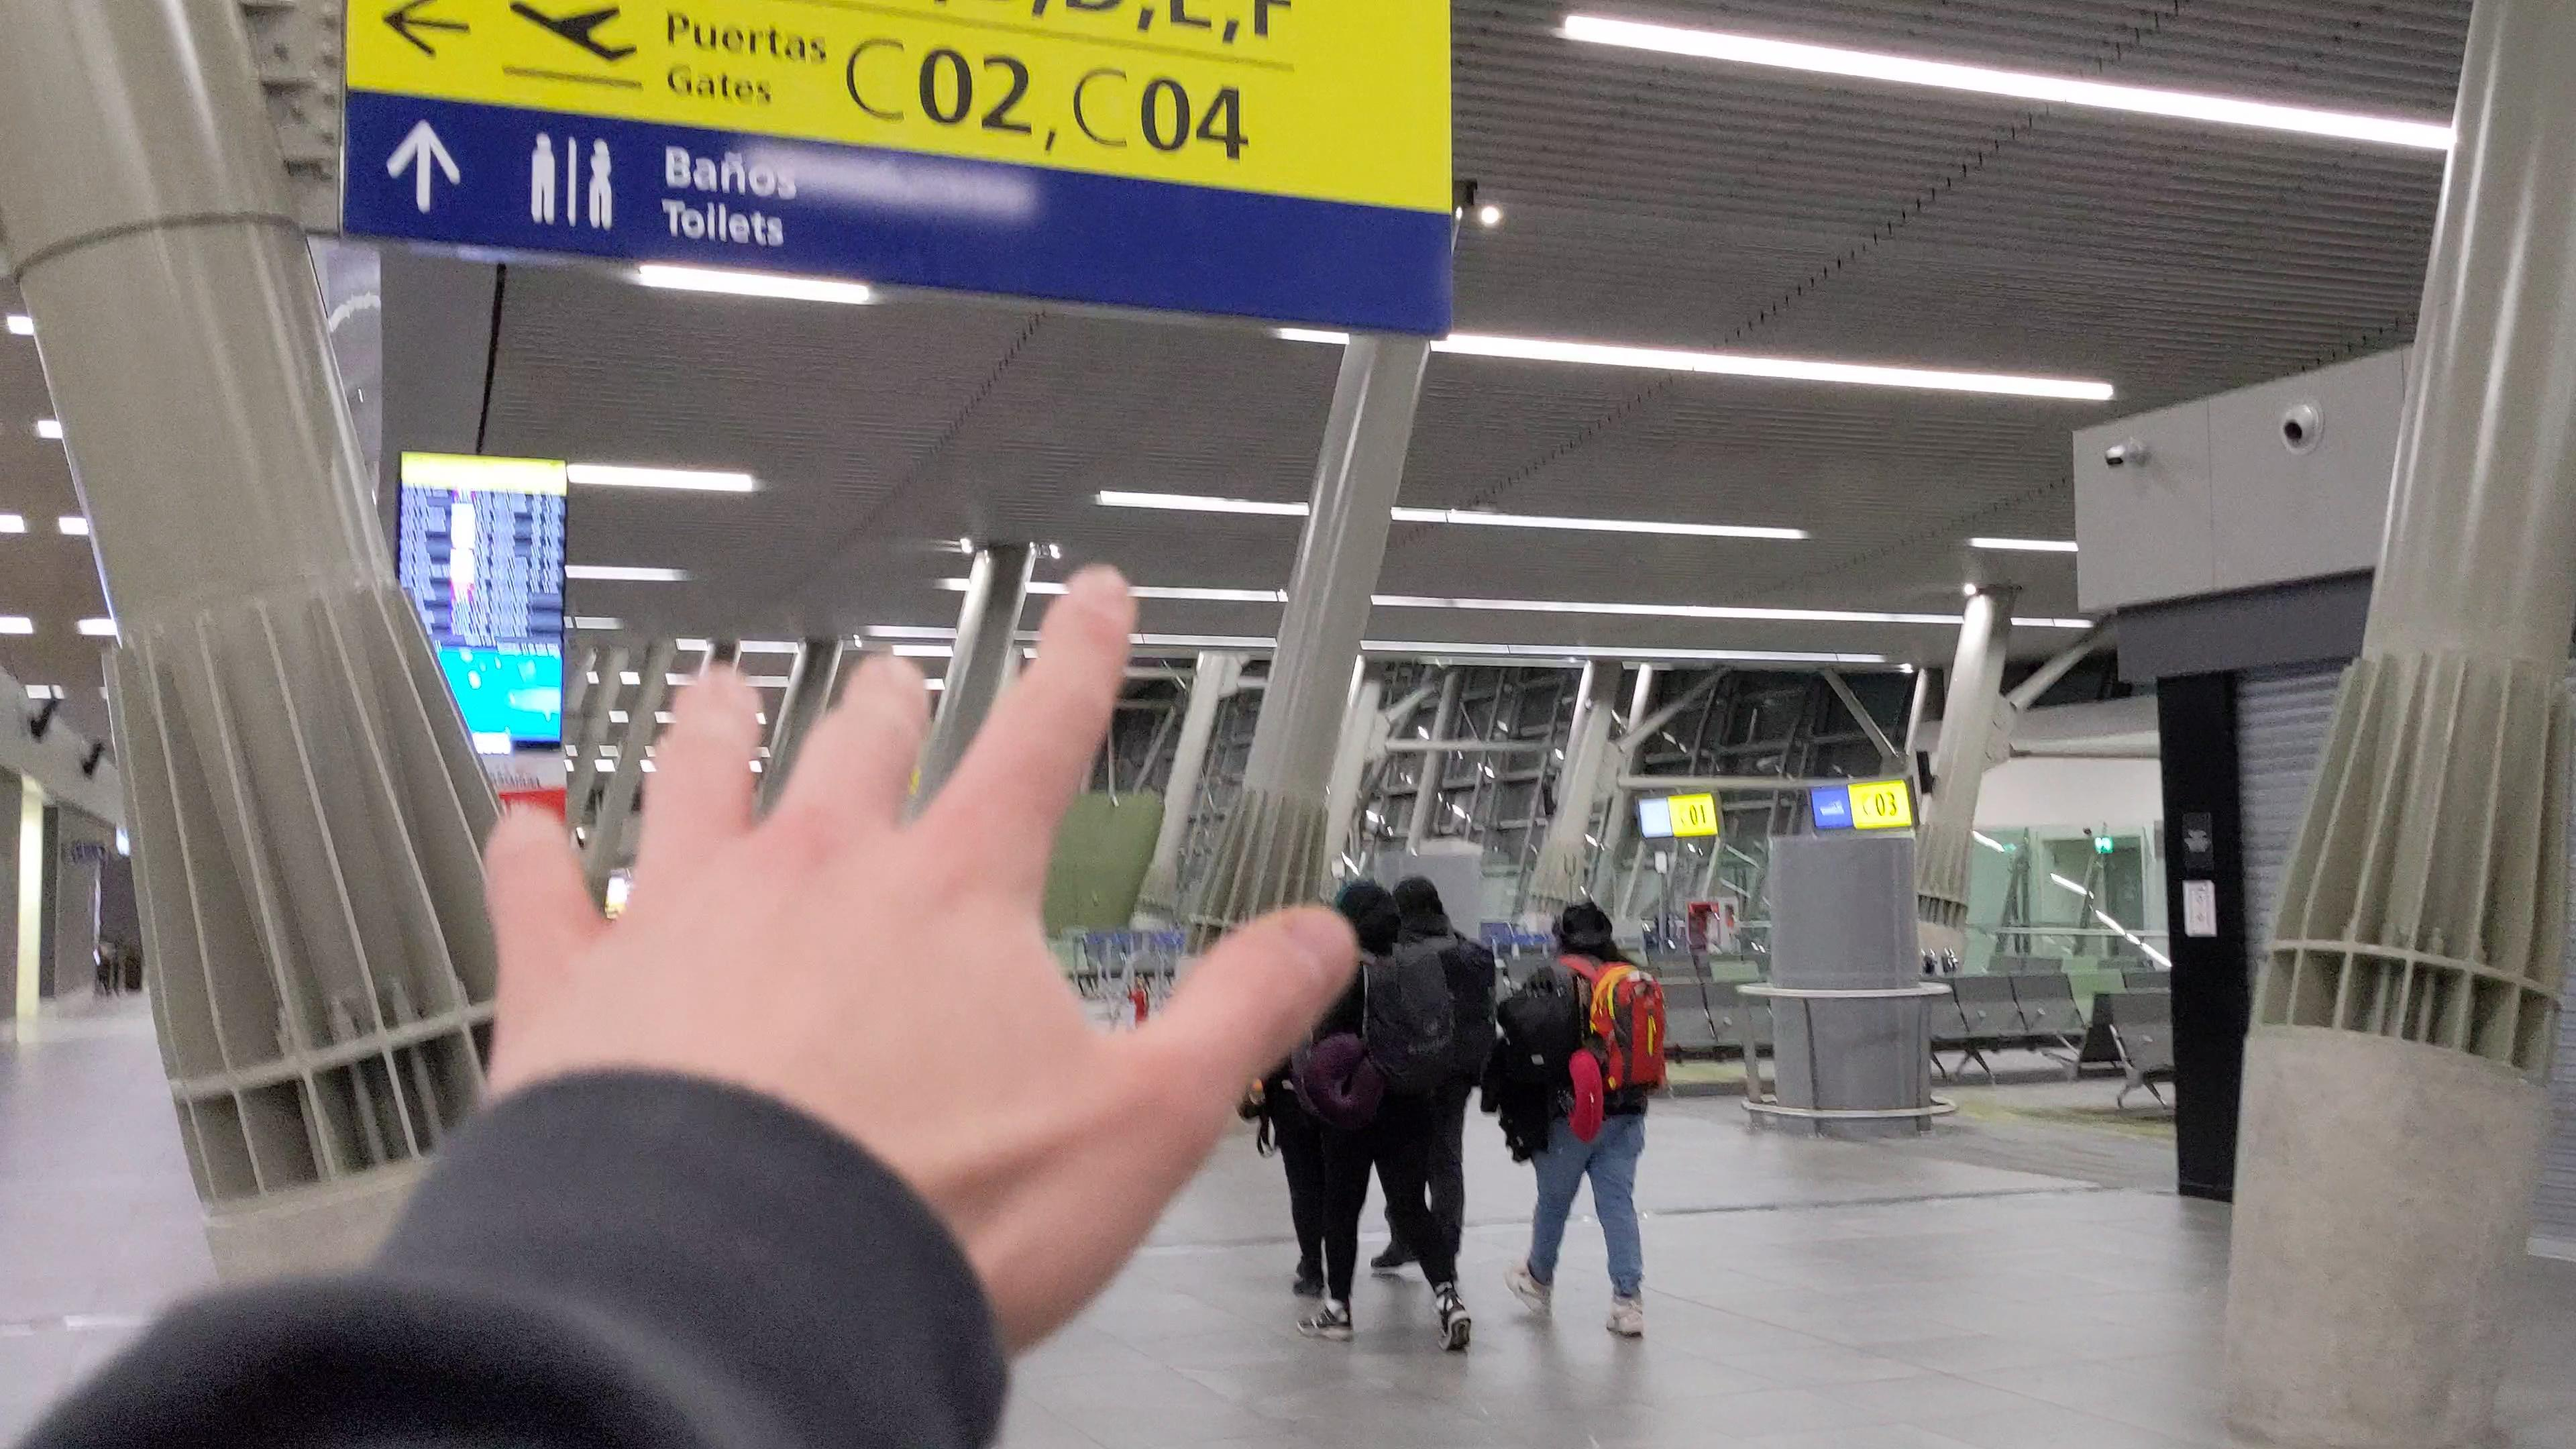airplane symbol: (504, 0, 639, 71)
bathrooms: (525, 127, 617, 232)
thin left arrow: (379, 0, 474, 60)
thin up arrow: (380, 111, 465, 214)
